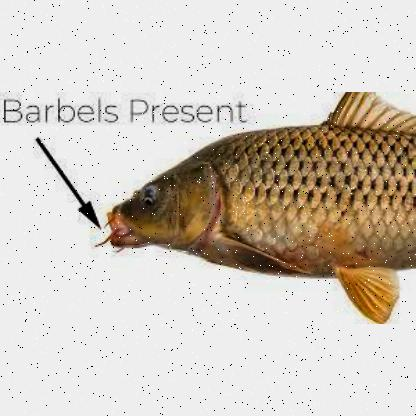ikan-mas: (101, 122, 415, 290)
